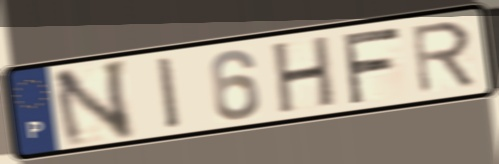6: (207, 46, 262, 123)
F: (338, 24, 404, 107)
H: (271, 32, 338, 117)
I: (154, 53, 186, 133)
N: (49, 56, 138, 150)
R: (408, 18, 480, 97)
